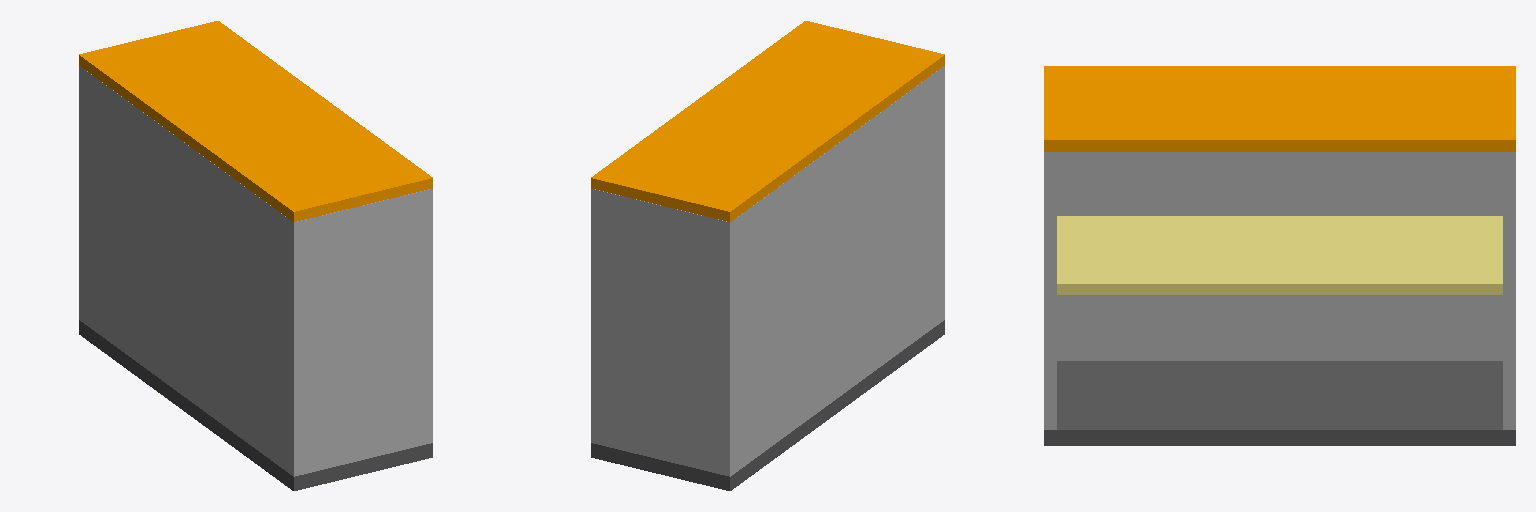
URDF robot description (coe-1200-shelf):
<?xml version="1.0"?>
<robot name="coe-1200-shelf"
       xmlns:xi="http://www.w3.org/2001/XInclude"
       xmlns:gazebo="http://playerstage.sourceforge.net/gazebo/xmlschema/#gz"
       xmlns:model="http://playerstage.sourceforge.net/gazebo/xmlschema/#model"
       xmlns:sensor="http://playerstage.sourceforge.net/gazebo/xmlschema/#sensor"
       xmlns:body="http://playerstage.sourceforge.net/gazebo/xmlschema/#body"
       xmlns:geom="http://playerstage.sourceforge.net/gazebo/xmlschema/#geom"
       xmlns:joint="http://playerstage.sourceforge.net/gazebo/xmlschema/#joint"
       xmlns:interface="http://playerstage.sourceforge.net/gazebo/xmlschema/#interface"
       xmlns:rendering="http://playerstage.sourceforge.net/gazebo/xmlschema/#rendering"
       xmlns:renderable="http://playerstage.sourceforge.net/gazebo/xmlschema/#renderable"
       xmlns:controller="http://playerstage.sourceforge.net/gazebo/xmlschema/#controller"
       xmlns:physics="http://playerstage.sourceforge.net/gazebo/xmlschema/#physics">
  <gazebo>
    <static>false</static>
  </gazebo>
  <link name="nil_link">
    <visual>
      <origin xyz="0 0 0" rpy="0 -0 0"/>
      <geometry>
        <mesh filename="model://coe-1200-shelf/meshes/nil_link_mesh.dae" scale="1 1 1" />
      </geometry>
    </visual>
    <collision>
      <origin xyz="0 0 0" rpy="0 -0 0"/>
      <geometry>
        <mesh filename="model://coe-1200-shelf/meshes/nil_link_mesh.dae" scale="1 1 1" />
      </geometry>
    </collision>
    <inertial>
      <mass value="0.001" />
      <origin xyz="0 0 0" rpy="0 -0 0"/>
      <inertia ixx="1e-09" ixy="0" ixz="0" iyy="1e-09" iyz="0" izz="1e-09"/>
    </inertial>
  </link>
  <gazebo reference="nil_link">
    <mu1>0.9</mu1>
    <mu2>0.9</mu2>
  </gazebo>
</robot>

--- Facts derived from the render (not from the file) ---
Views: 3 orthographic renders of the robot side by side, from view 1: azimuth 30°, elevation 25°; view 2: azimuth 150°, elevation 25°; view 3: azimuth 270°, elevation 25°.
Model coe-1200-shelf with 1 links and 0 joints (none), rooted at nil_link, posed every joint at zero.
Links seen in each view (by area): view 1: nil_link; view 2: nil_link; view 3: nil_link.
Boxes of the visible links, box(x1,y1,x2,y2) form: nil_link: box(79, 21, 432, 490); nil_link: box(591, 21, 944, 490); nil_link: box(1044, 66, 1515, 445).
Size in the robot's own frame: 0.45 by 1.2 by 0.8605 metres.
Meshes: 1 distinct files referenced, 1 mesh visuals loaded (1 Collada DAE).
